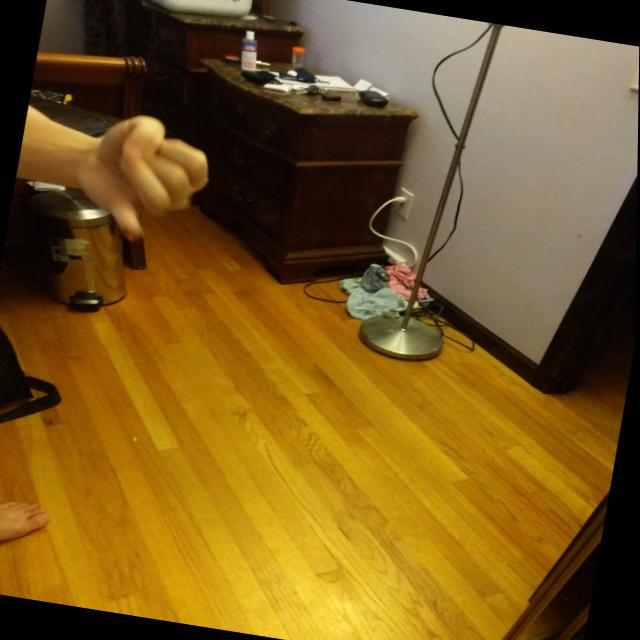J: (63, 100, 227, 260)
